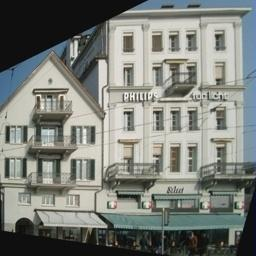building: (103, 8, 252, 251), (2, 49, 103, 243)
